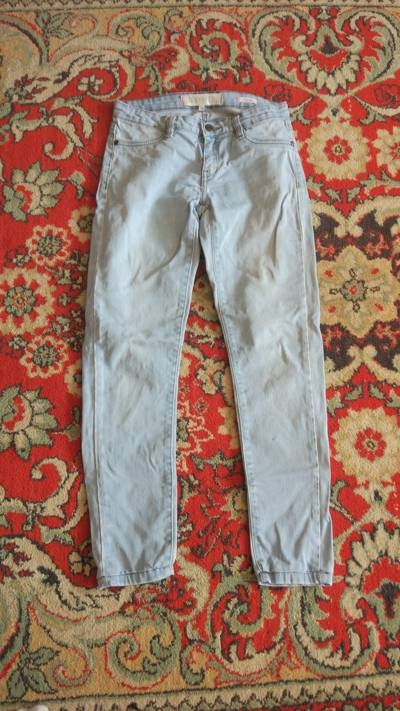Pants: (37, 58, 343, 618)
